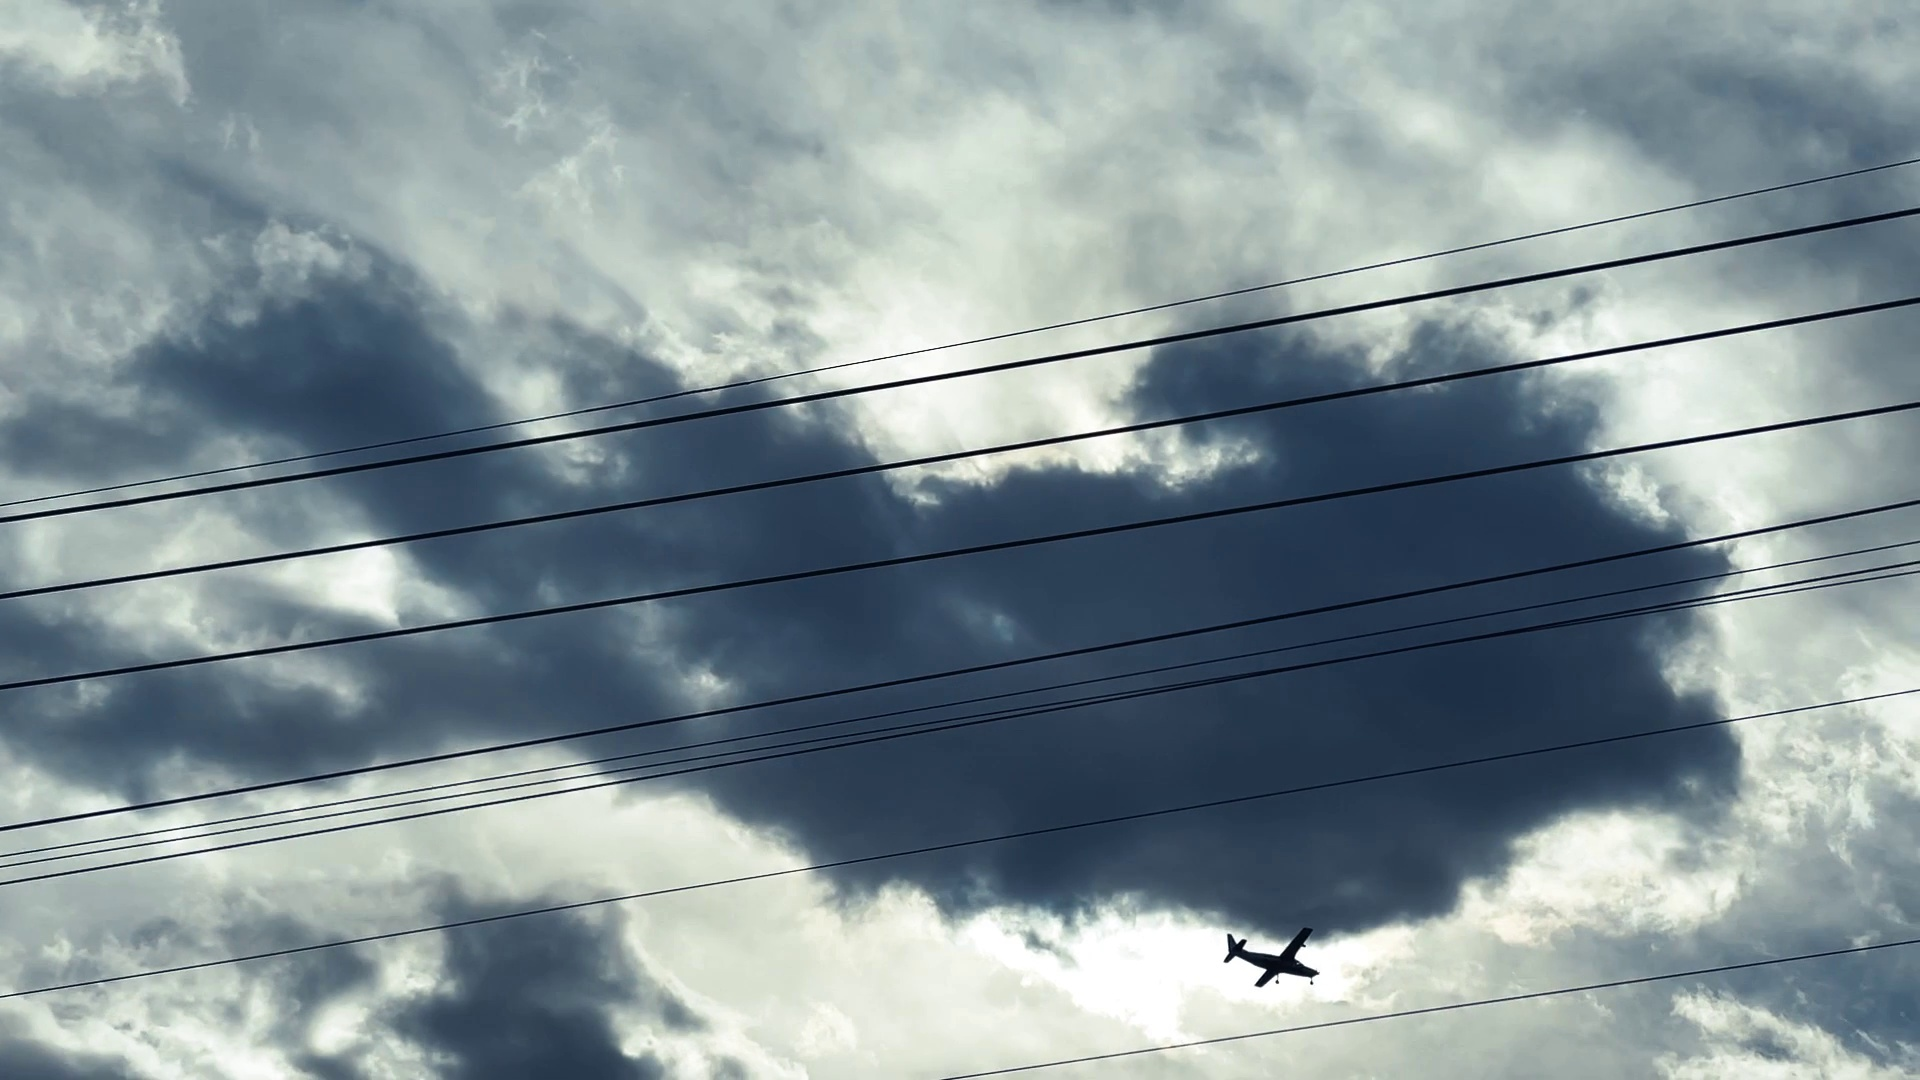plane: (1222, 924, 1316, 986)
